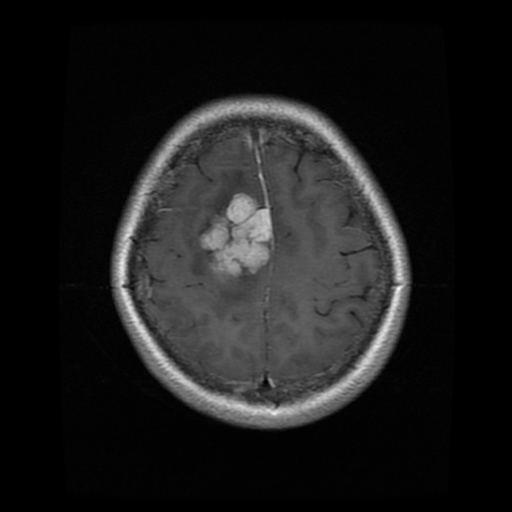meningioma: (199, 192, 274, 277)
